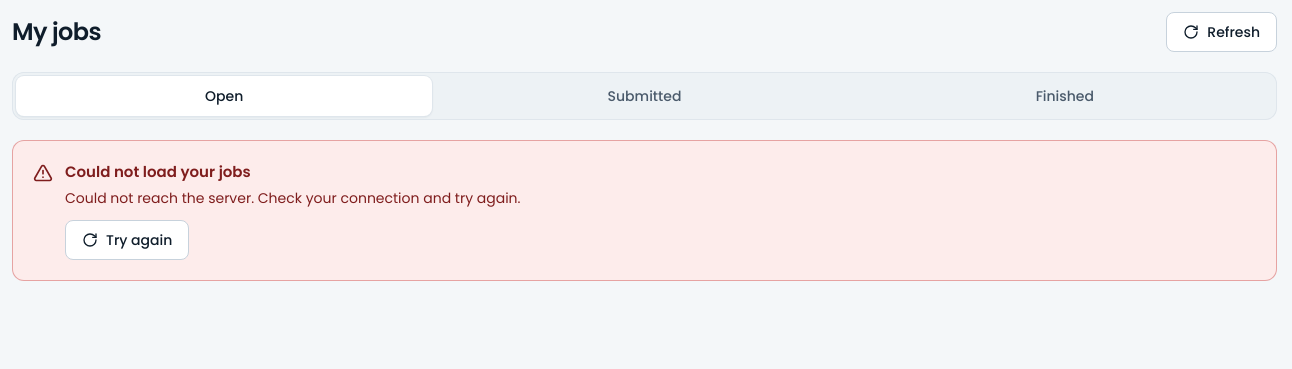
Test: Loading problems and refreshing › shows the error and tries again
The width and height of the screenshot is (1292, 369).
Check: the heading "Could not load your jobs" is shown, box [65,161,251,182]
Check: the text "Could not reach the server. Check your connection and try again." is shown, box [65,188,520,208]
What coordinates should you click on to do the following:
click the button "Try again"
I would click on:
 (127, 240)
Its box is [65,220,189,260].
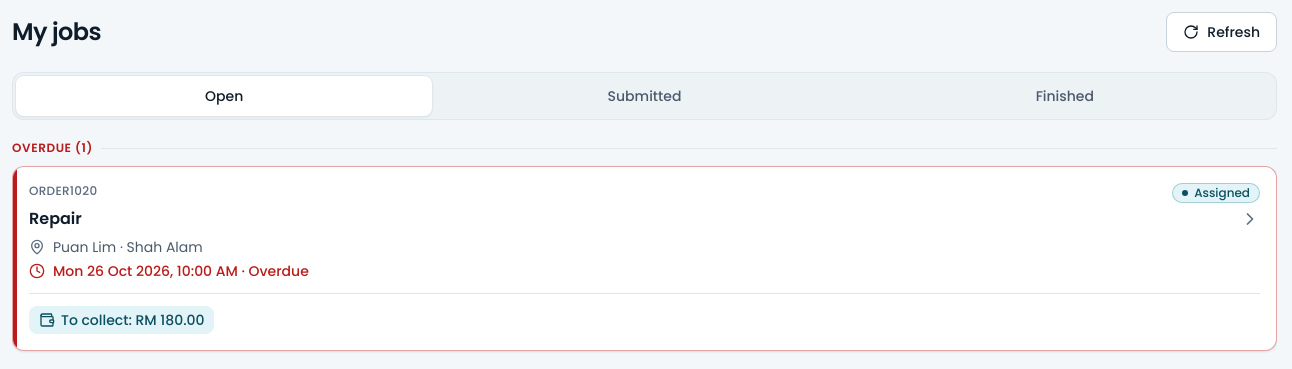
Check: the text "ORDER1020" is shown, box [29,183,98,199]
